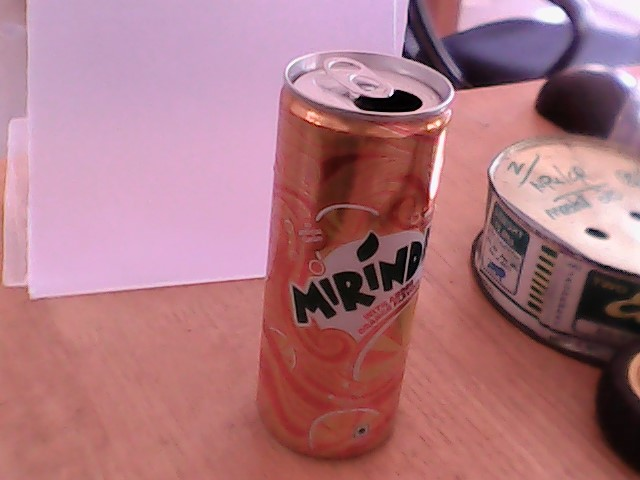Metal: (270, 59, 429, 480)
